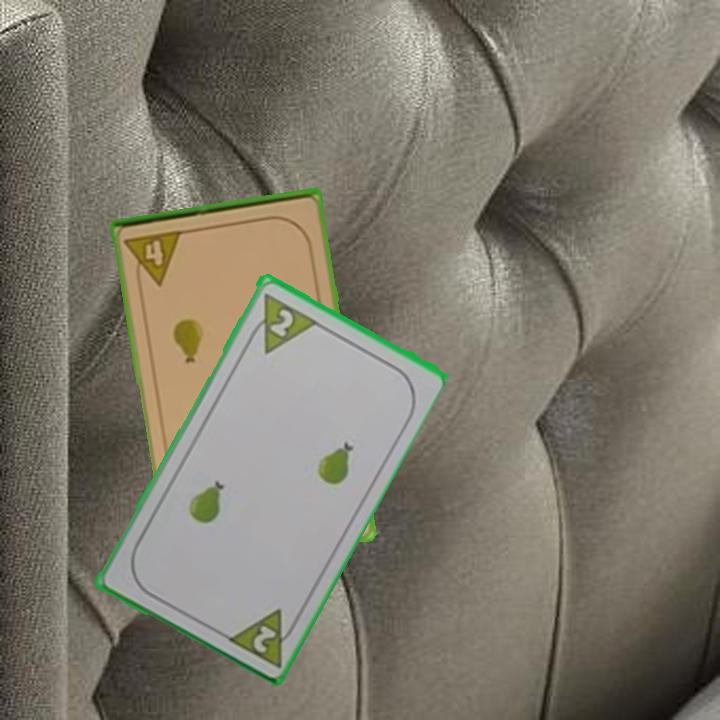2p: (222, 604, 303, 670), (242, 288, 318, 356)
4p: (121, 226, 186, 291)
